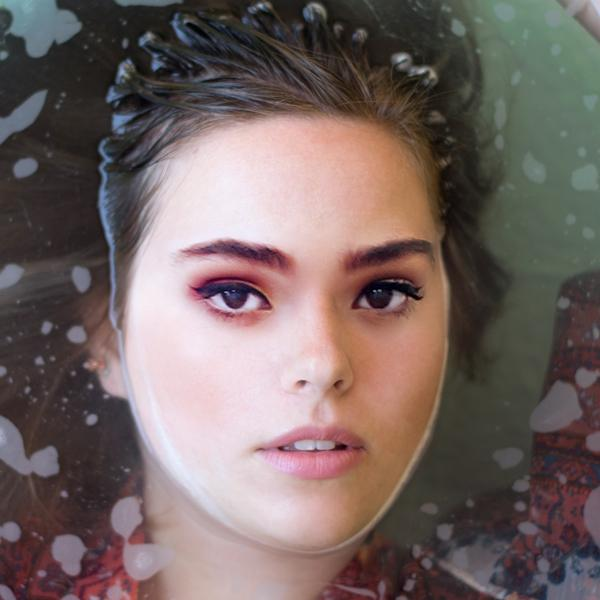Eyes: (343, 268, 425, 329), (186, 271, 278, 325)
